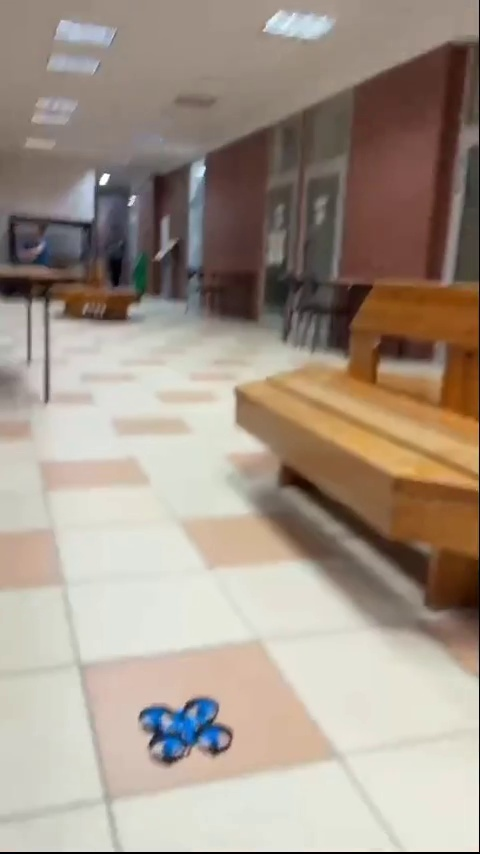drone: (140, 695, 236, 766)
no vest: (26, 216, 62, 280), (104, 223, 128, 291)
